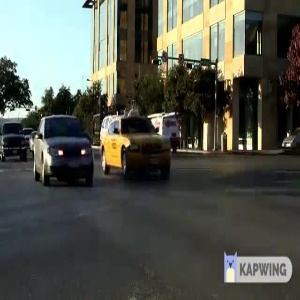car: (90, 109, 186, 180), (33, 114, 95, 191)
